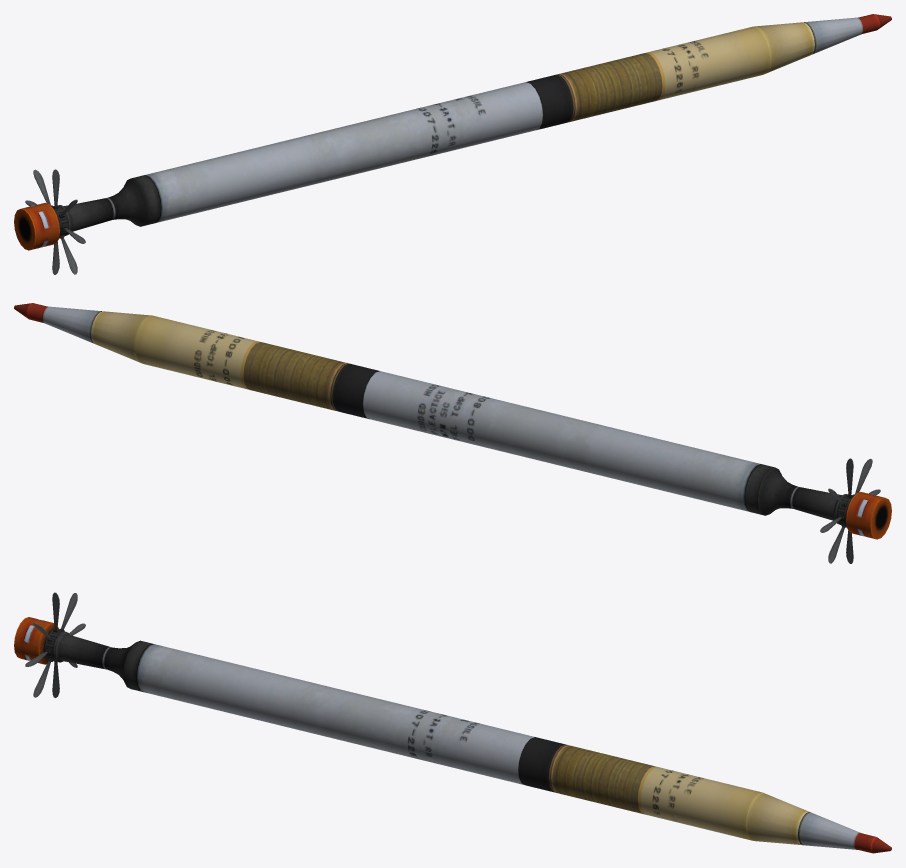
The picture shows the model from 3 angles, top to bottom: view 1: azimuth 30°, elevation 25°; view 2: azimuth 150°, elevation 25°; view 3: azimuth 330°, elevation 25°; orthographic projection.
Visible parts, largest first — view 1: AT_07_lod0; view 2: AT_07_lod0; view 3: AT_07_lod0.
Part boxes in pixels (x1=…): AT_07_lod0: x1=14, y1=14, x2=891, y2=274; AT_07_lod0: x1=14, y1=303, x2=891, y2=563; AT_07_lod0: x1=14, y1=592, x2=891, y2=853.
Bounding box in the file's own units: 18.48 × 2.15 × 2.15.
